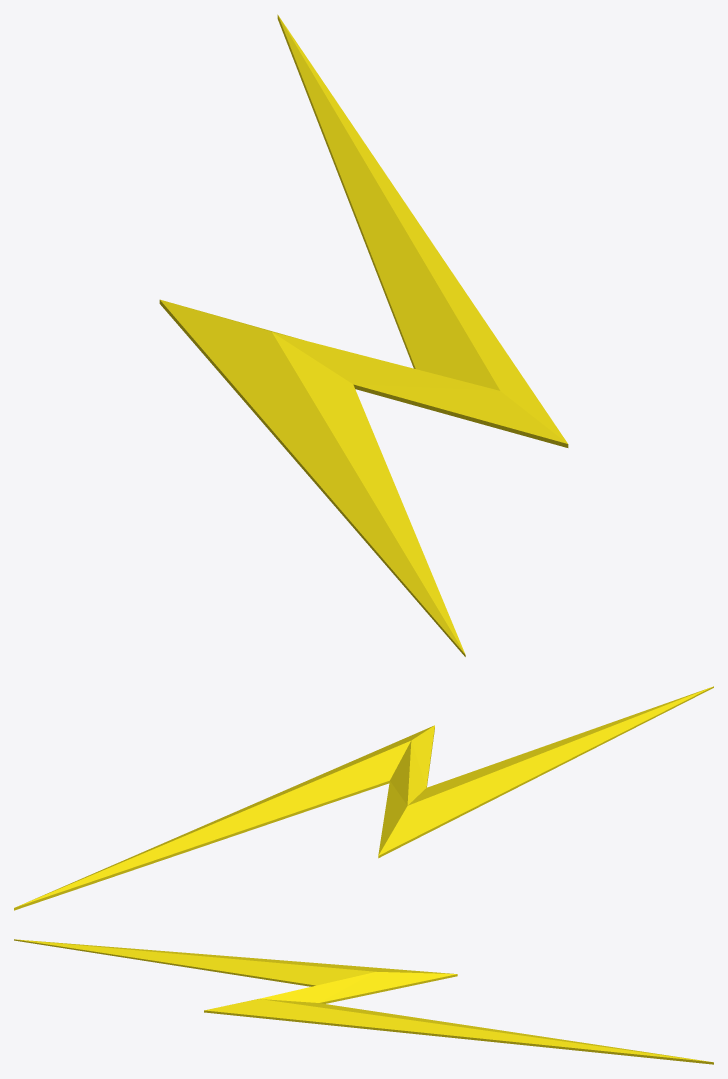
File: Lightning.dae
3 views of the same model, one above another, from view 1: azimuth 30°, elevation 25°; view 2: azimuth 150°, elevation 25°; view 3: azimuth 270°, elevation 25° (orthographic). The views are drawn at different scales.
Visible parts, largest first — view 1: Lightning_Bolt; view 2: Lightning_Bolt; view 3: Lightning_Bolt.
Part boxes in pixels (box(x1,y1,x2,y2)): Lightning_Bolt: box(159, 14, 568, 656); Lightning_Bolt: box(14, 686, 713, 910); Lightning_Bolt: box(14, 939, 713, 1064).
Size of the model in its own units: 204 by 484 by 13.39.
